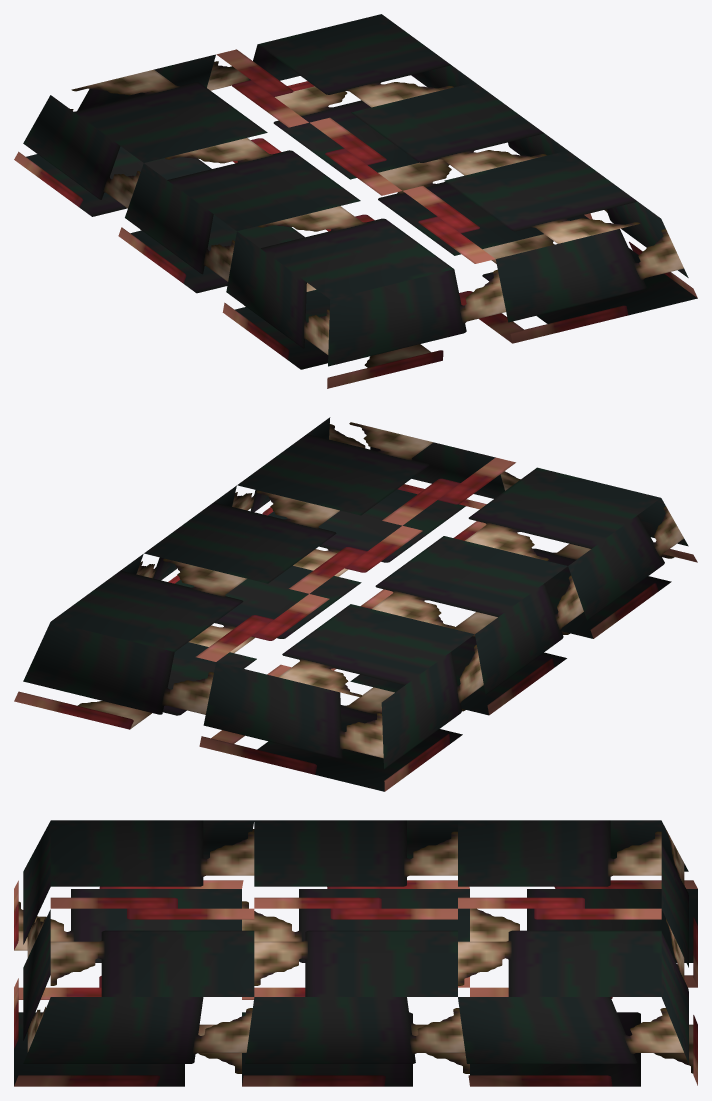
The picture shows the model from 3 angles, top to bottom: view 1: azimuth 30°, elevation 25°; view 2: azimuth 150°, elevation 25°; view 3: azimuth 270°, elevation 25°; orthographic projection. The views are drawn at different scales.
Parts seen in each view (by area): view 1: T1L6M003_32; view 2: T1L6M003_32; view 3: T1L6M003_32.
Part boxes in pixels (left/top/right/bottom): T1L6M003_32: left=14, top=14, right=697, bottom=388; T1L6M003_32: left=14, top=417, right=697, bottom=791; T1L6M003_32: left=14, top=820, right=697, bottom=1086.
Bounding box in the file's own units: 1.88 × 0.3496 × 2.75.
